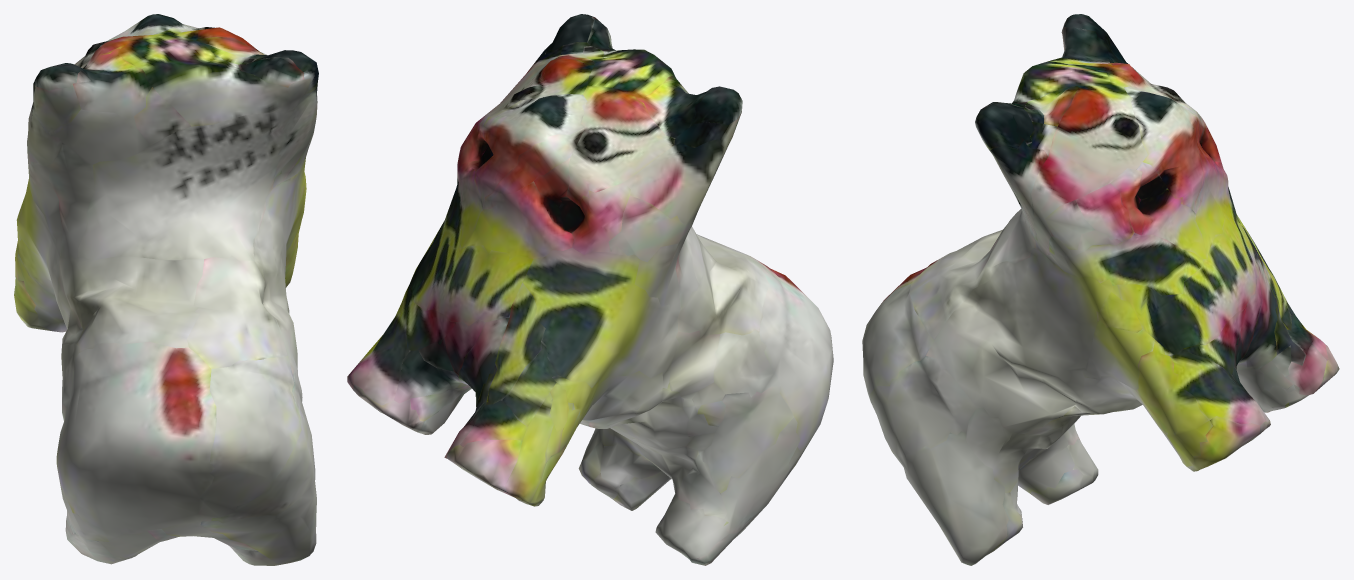
Rendered from hall.glb.
3 views of the same model, side by side, from view 1: azimuth 30°, elevation 25°; view 2: azimuth 150°, elevation 25°; view 3: azimuth 270°, elevation 25° (orthographic). The views are drawn at different scales.
Size of the model in its own units: 0.6858 by 0.9295 by 0.8592.
Materials: 1 (1 with a texture image).
